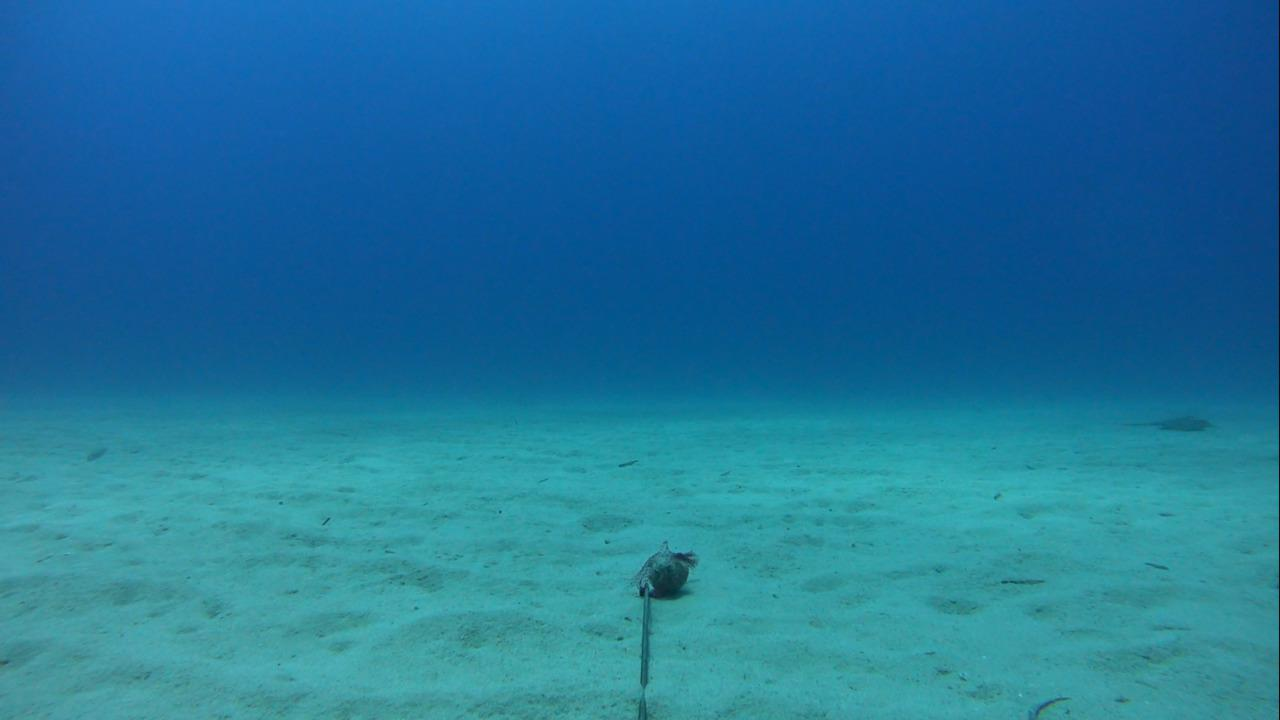myliobatis: (1103, 407, 1216, 438)
